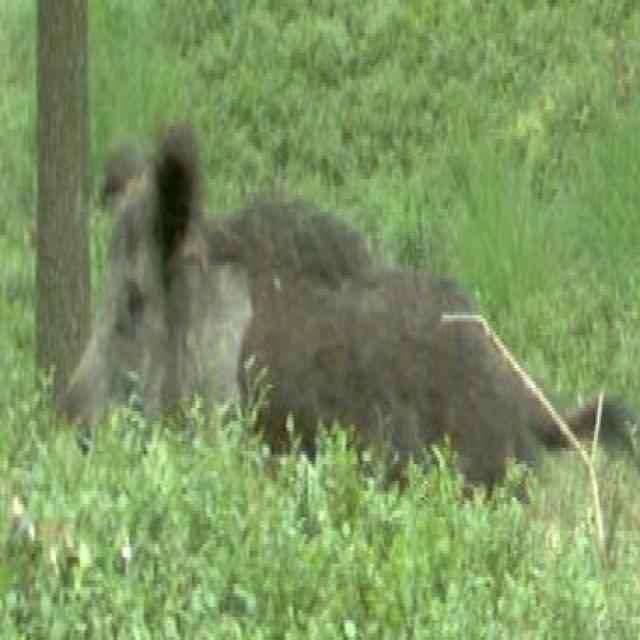pig: (39, 90, 637, 540)
